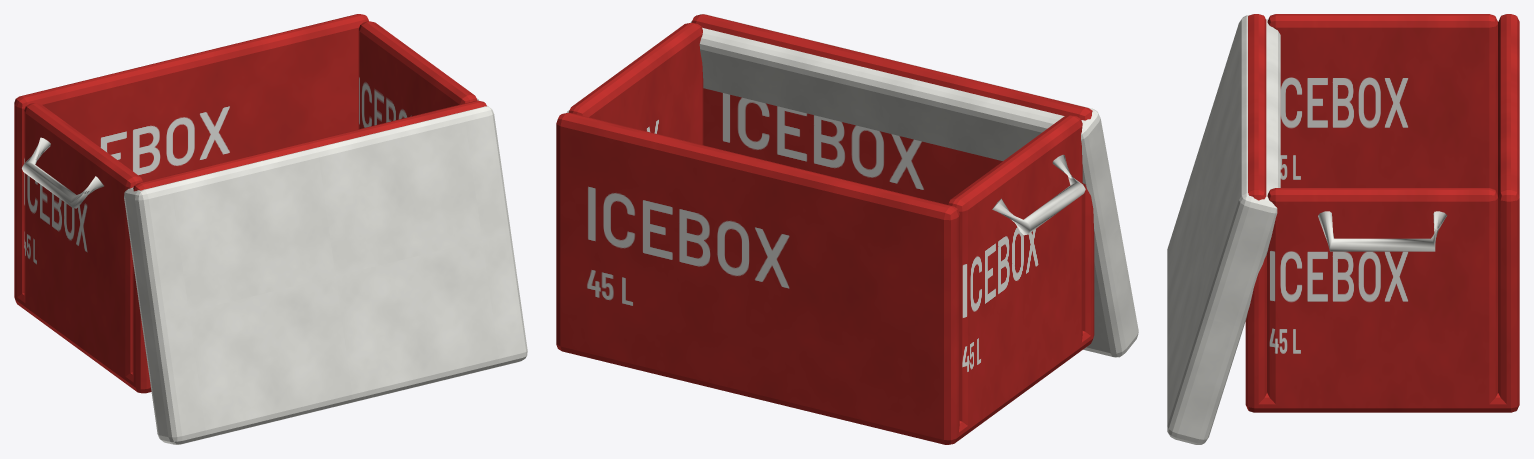
File: lootbox_cooler_open.glb
3 views of the same model, side by side, from view 1: azimuth 30°, elevation 25°; view 2: azimuth 150°, elevation 25°; view 3: azimuth 270°, elevation 25° (orthographic). The views are drawn at different scales.
Parts seen in each view (by area): view 1: lid, cooler_front, cooler_left, cooler_right, cooler_back, handle-1, cooler_floor; view 2: cooler_front, lid, cooler_left, cooler_back, cooler_right, cooler_floor, handle-1; view 3: cooler_right, cooler_left, lid, cooler_front, cooler_back, cooler_floor, handle1.
Boxes of the visible parts, <box> form: lid: <box>124,105,527,444</box>; cooler_front: <box>14,14,368,298</box>; cooler_left: <box>24,103,142,376</box>; cooler_right: <box>358,21,477,129</box>; cooler_back: <box>132,100,486,393</box>; handle-1: <box>22,137,103,208</box>; cooler_floor: <box>14,293,150,393</box>; cooler_front: <box>556,113,959,444</box>; lid: <box>690,14,1138,357</box>; cooler_left: <box>948,115,1082,425</box>; cooler_back: <box>691,14,1094,336</box>; cooler_right: <box>568,23,703,144</box>; cooler_floor: <box>556,331,1094,444</box>; handle-1: <box>992,154,1085,235</box>; cooler_right: <box>1267,188,1497,404</box>; cooler_left: <box>1267,14,1497,194</box>; lid: <box>1167,15,1280,444</box>; cooler_front: <box>1498,14,1519,412</box>; cooler_back: <box>1245,14,1266,412</box>; cooler_floor: <box>1247,393,1519,412</box>; handle1: <box>1318,211,1447,251</box>.
Size of the model in its own units: 0.6995 by 0.3874 by 0.4885.
2 materials, 2 textured.
